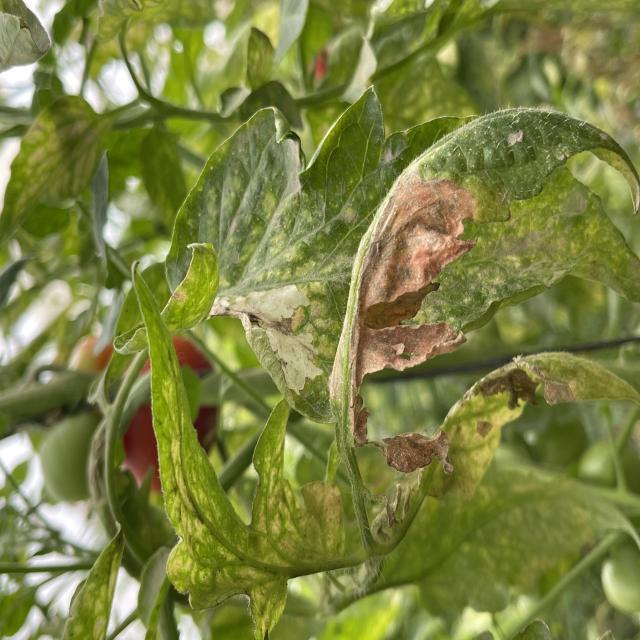Tuta absoluta: (219, 258, 351, 400)
